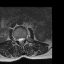CCS_normal: (20, 35, 22, 44)
LFS_normal: (24, 35, 26, 41)
LLS_normal: (22, 35, 24, 42)
RFS_normal: (16, 35, 18, 42)
RLS_normal: (18, 36, 20, 42)
